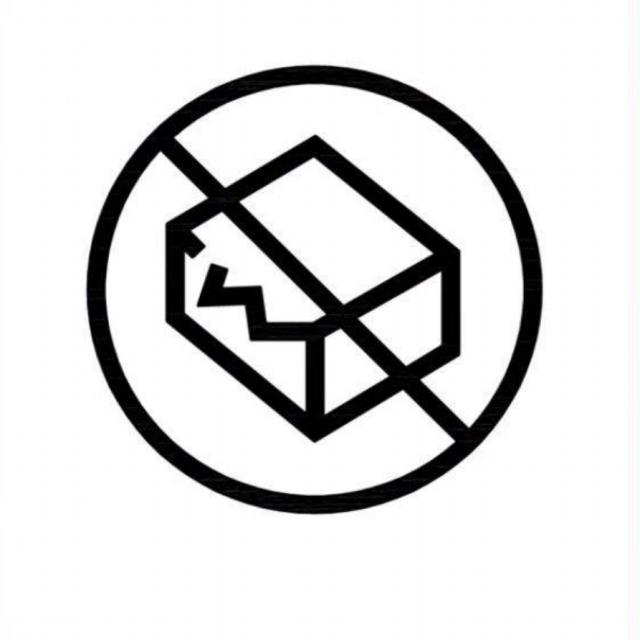Do not use if package is damaged: (86, 60, 551, 518)
